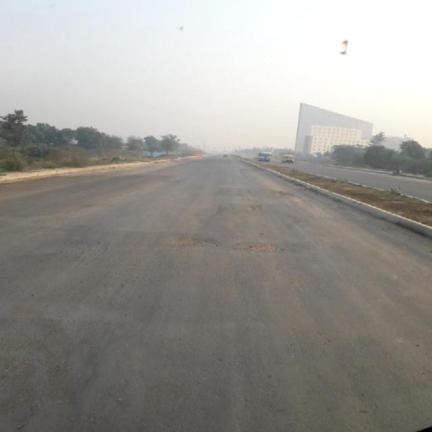Road: (0, 158, 431, 431), (271, 159, 431, 201)
